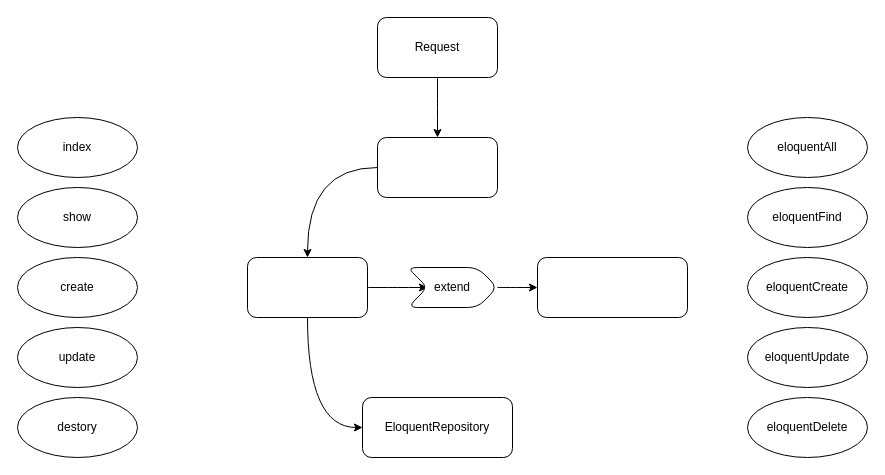
Some shapes in this 885 by 475 pixel diagram are drawn without their labels. Each missing label, with the centre of its shape:
Controller: the point at 437,167
CrudRepositoryInterface: the point at 612,287
RepositoryInterface: the point at 307,287
